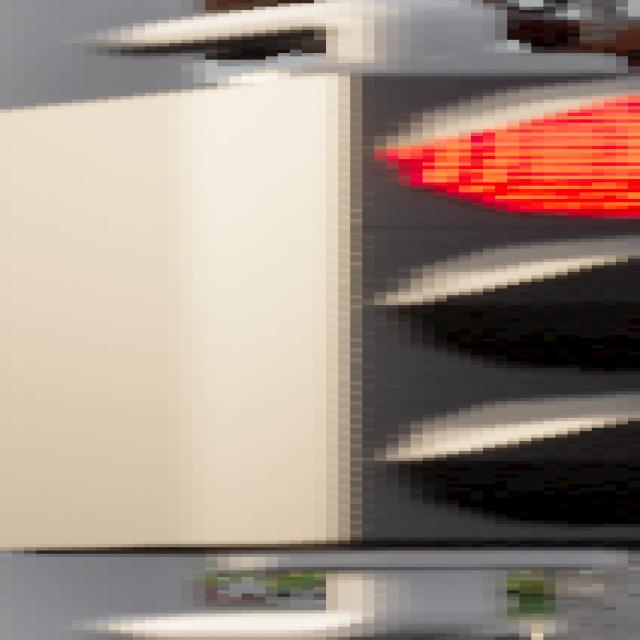red_light: (0, 43, 640, 555)
